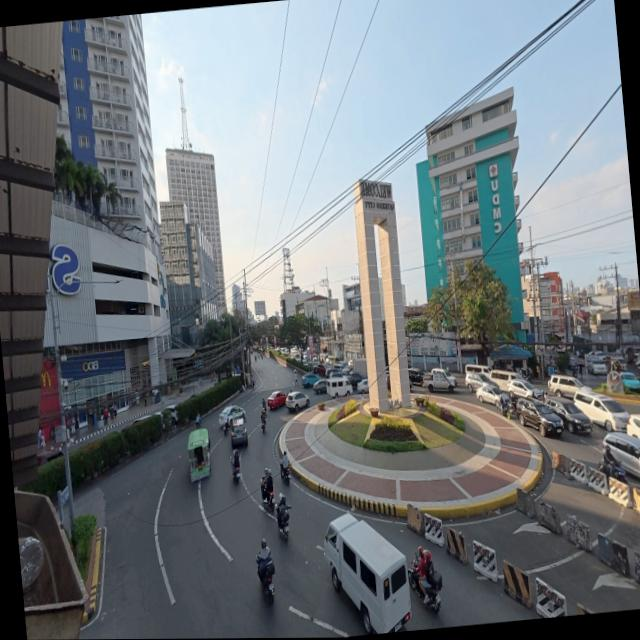car: (282, 389, 308, 412), (229, 425, 250, 450), (264, 389, 288, 410), (619, 373, 640, 392), (298, 372, 320, 389)
trucks: (424, 367, 456, 393)
vans: (318, 504, 414, 638)
